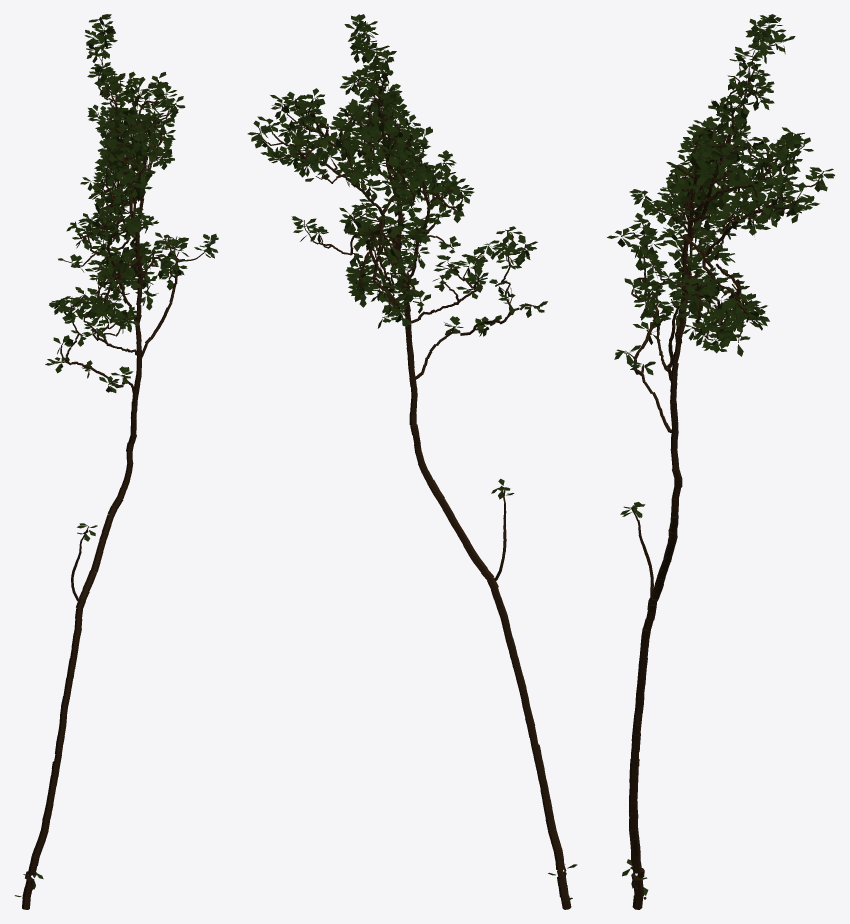
File: tree_468.obj
3 renders of one model, left to right at view 1: azimuth 30°, elevation 25°; view 2: azimuth 150°, elevation 25°; view 3: azimuth 270°, elevation 25°, orthographic. The views are drawn at different scales.
Parts seen in each view (by area): view 1: Leaves, TrunkAndBranches; view 2: Leaves, TrunkAndBranches; view 3: Leaves, TrunkAndBranches.
Boxes of the visible parts, <box> form: Leaves: <box>14,14,218,896</box>; TrunkAndBranches: <box>22,18,209,909</box>; Leaves: <box>247,14,577,900</box>; TrunkAndBranches: <box>259,27,571,909</box>; Leaves: <box>607,14,834,895</box>; TrunkAndBranches: <box>621,21,823,909</box>.
Bounding box in the file's own units: 6.89 × 23.44 × 5.02.
